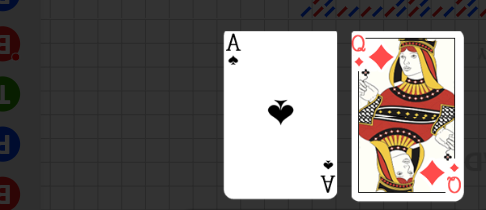AS: (318, 156, 335, 194), (226, 33, 243, 69)
QD: (364, 31, 408, 78), (431, 152, 475, 198)
